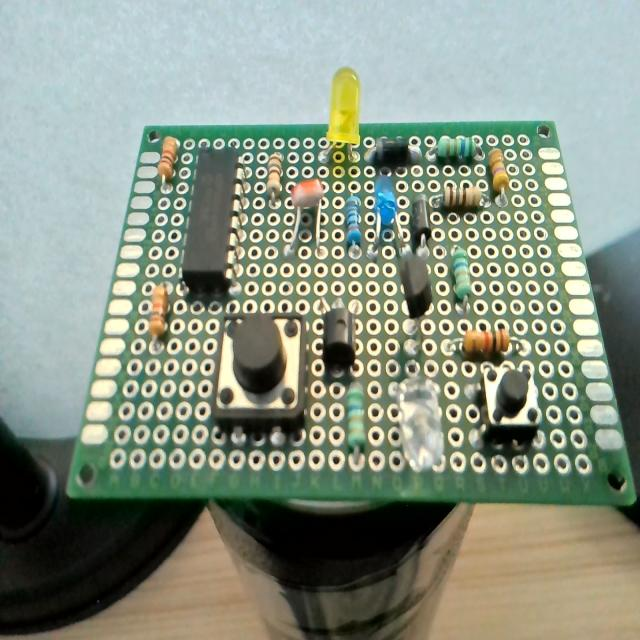IC: (182, 146, 240, 296)
cds: (287, 176, 326, 250)
diode: (366, 137, 420, 166), (411, 195, 430, 247)
led: (392, 349, 452, 472), (321, 66, 362, 158), (370, 173, 404, 247)
resistor: (486, 148, 509, 207), (347, 384, 366, 452), (464, 328, 508, 357), (437, 135, 478, 160), (452, 247, 471, 300), (150, 284, 169, 336), (442, 185, 483, 209), (345, 197, 362, 254), (159, 136, 179, 181), (266, 153, 282, 201)
switch: (214, 309, 308, 429), (481, 360, 540, 442)
transistor: (317, 286, 366, 372), (400, 252, 432, 318)
